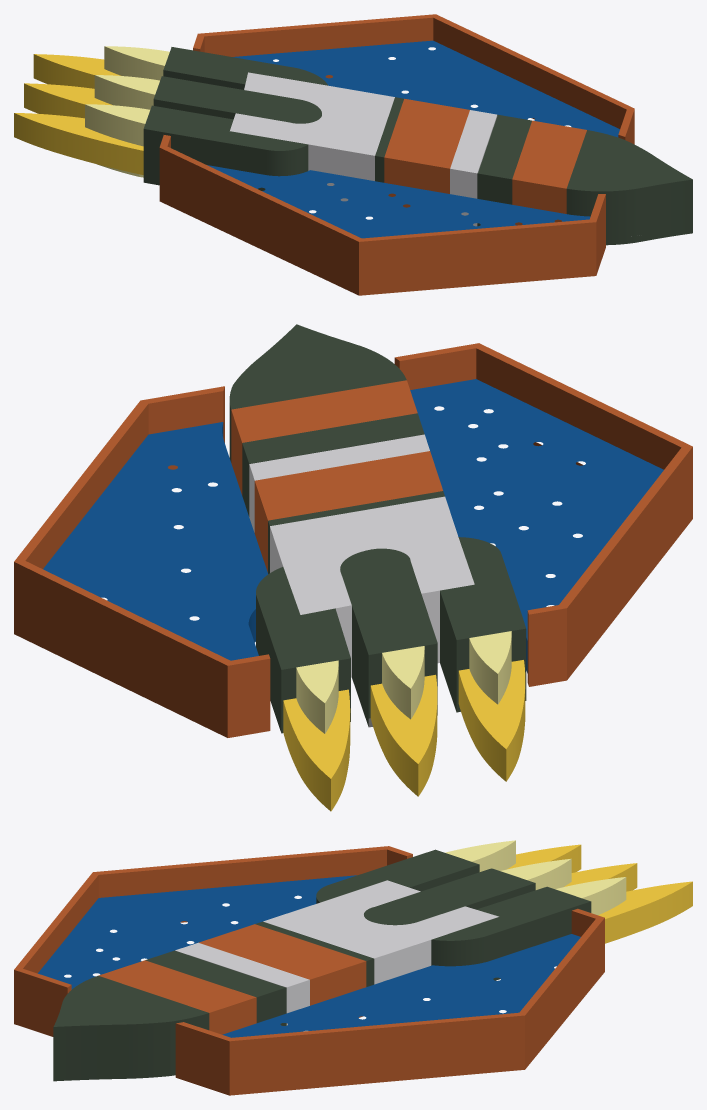
Rendered from ProgressМ23.gltf.
The picture shows the model from 3 angles, top to bottom: view 1: azimuth 30°, elevation 25°; view 2: azimuth 150°, elevation 25°; view 3: azimuth 270°, elevation 25°; orthographic projection. The views are drawn at different scales.
Parts seen in each view (by area): view 1: root; view 2: root; view 3: root.
Boxes of the visible parts, x1,y1,x2,y2 form: root: (14, 14, 692, 295); root: (14, 324, 692, 811); root: (14, 840, 692, 1095).
Size of the model in its own units: 0.9 by 0.1037 by 1.17.
